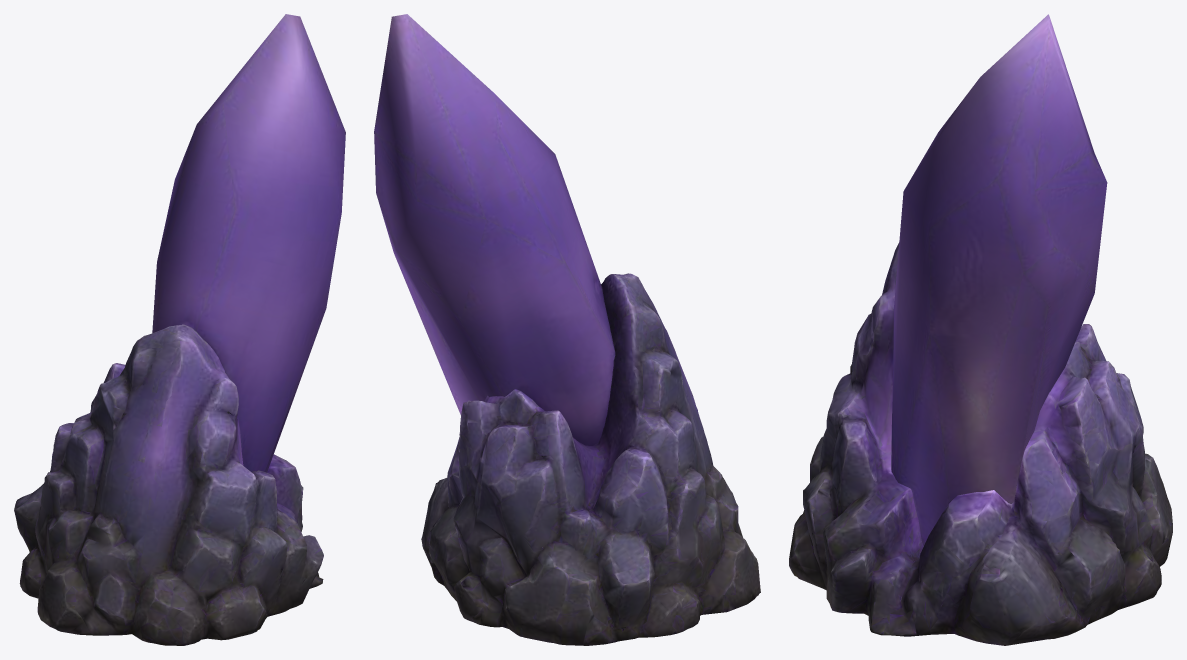
Rendered from crystalMonolith.glb.
The picture shows the model from 3 angles, left to right: view 1: azimuth 30°, elevation 25°; view 2: azimuth 150°, elevation 25°; view 3: azimuth 270°, elevation 25°; orthographic projection. The views are drawn at different scales.
Visible parts, largest first — view 1: tripo_node_4daea437-367b-4a00-bee3-cd393fee88b8; view 2: tripo_node_4daea437-367b-4a00-bee3-cd393fee88b8; view 3: tripo_node_4daea437-367b-4a00-bee3-cd393fee88b8.
Part boxes in pixels (<box>): tripo_node_4daea437-367b-4a00-bee3-cd393fee88b8: <box>14,14,345,645</box>; tripo_node_4daea437-367b-4a00-bee3-cd393fee88b8: <box>374,14,760,645</box>; tripo_node_4daea437-367b-4a00-bee3-cd393fee88b8: <box>789,14,1172,645</box>.
Bounding box in the file's own units: 0.6504 × 0.998 × 0.5371.
1 material, 1 textured.
